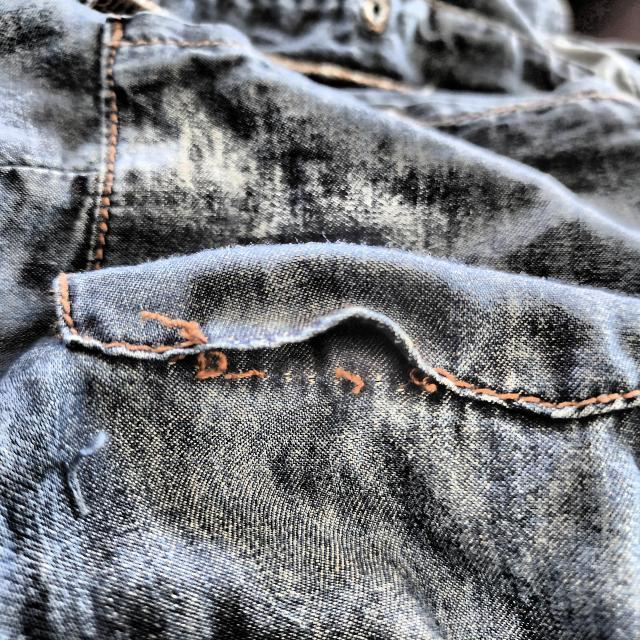gray stitch: (148, 293, 458, 392)
